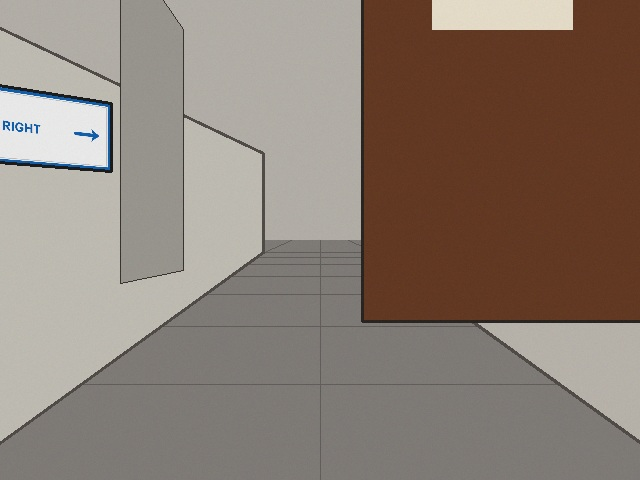directional_sign: (0, 76, 111, 171)
door: (362, 0, 639, 321)
